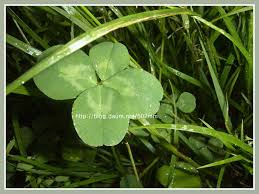4-clover: (37, 43, 165, 144)
